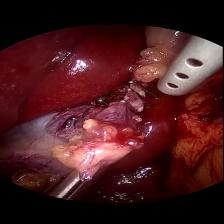Grasper: (46, 164, 98, 200)
Irrigator: (158, 36, 224, 96)
